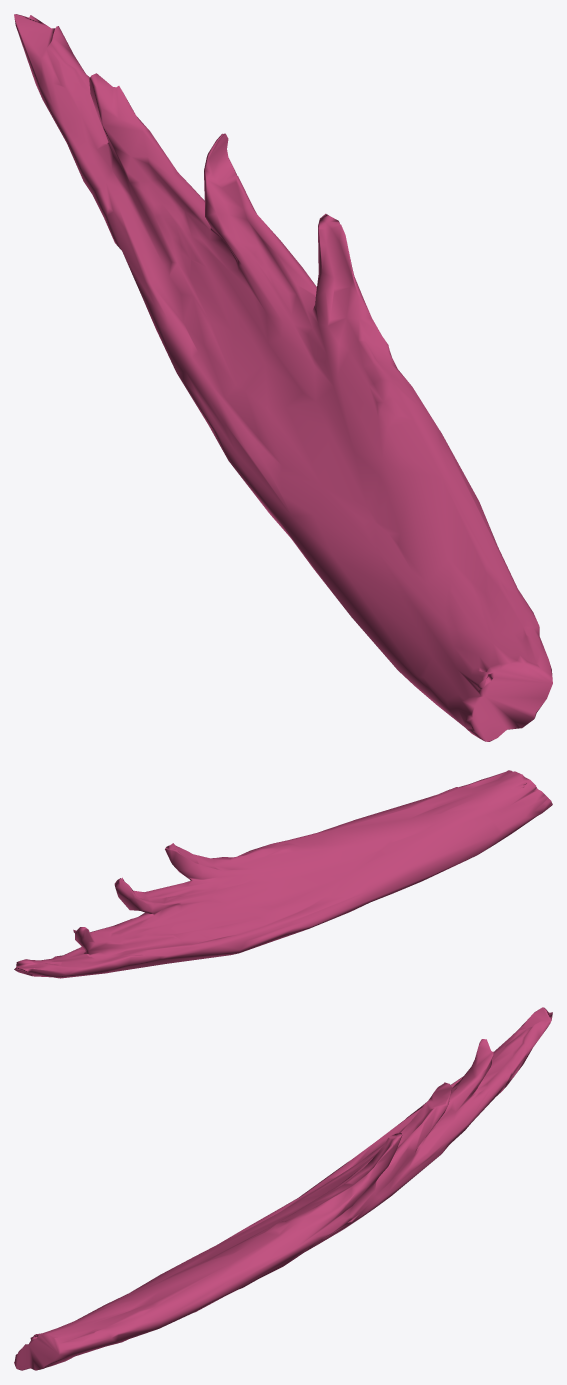
3 views of the same model, one above another, from view 1: azimuth 30°, elevation 25°; view 2: azimuth 150°, elevation 25°; view 3: azimuth 330°, elevation 25° (orthographic). The views are drawn at different scales.
Parts seen in each view (by area): view 1: 左侧头长肌; view 2: 左侧头长肌; view 3: 左侧头长肌.
Boxes of the visible parts, bbox=[...] form: 左侧头长肌: bbox=[14, 14, 552, 741]; 左侧头长肌: bbox=[14, 770, 552, 978]; 左侧头长肌: bbox=[14, 1007, 552, 1370].
Size of the model in its own units: 0.0358 by 0.026 by 0.1622.
